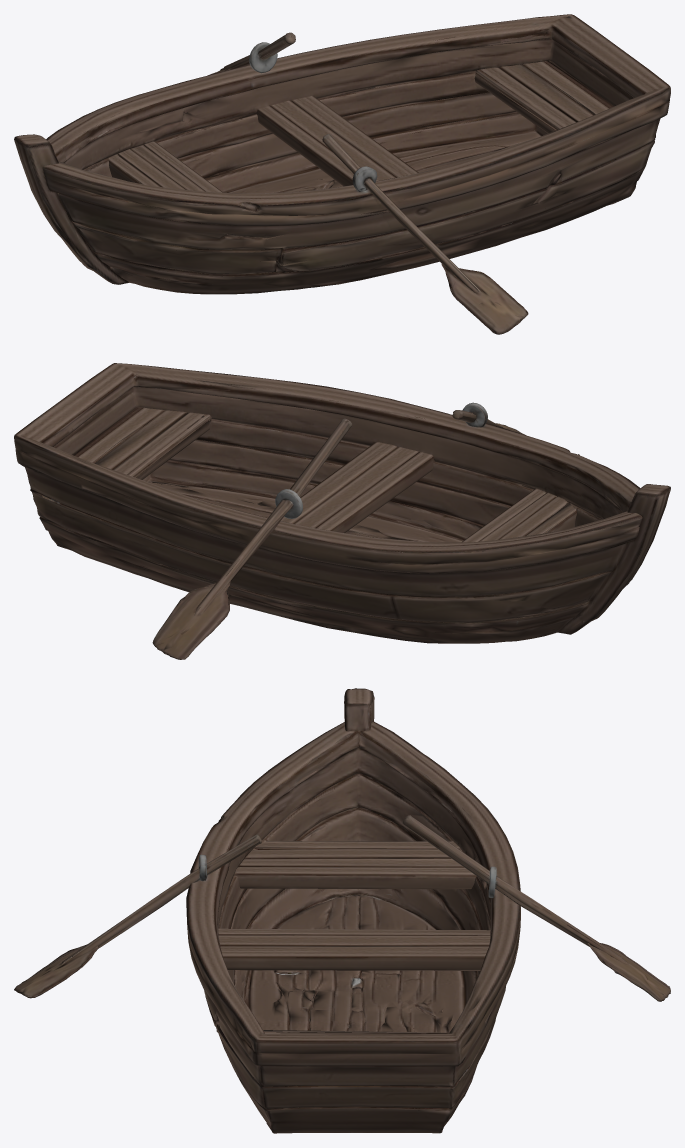
The model's file is meshy-vehicle-rowboat.glb.
3 views of the same model, one above another, from view 1: azimuth 30°, elevation 25°; view 2: azimuth 150°, elevation 25°; view 3: azimuth 270°, elevation 25° (orthographic).
Bounding box in the file's own units: 0.9507 × 0.2725 × 0.8862.
Materials: 1 (1 with a texture image).
